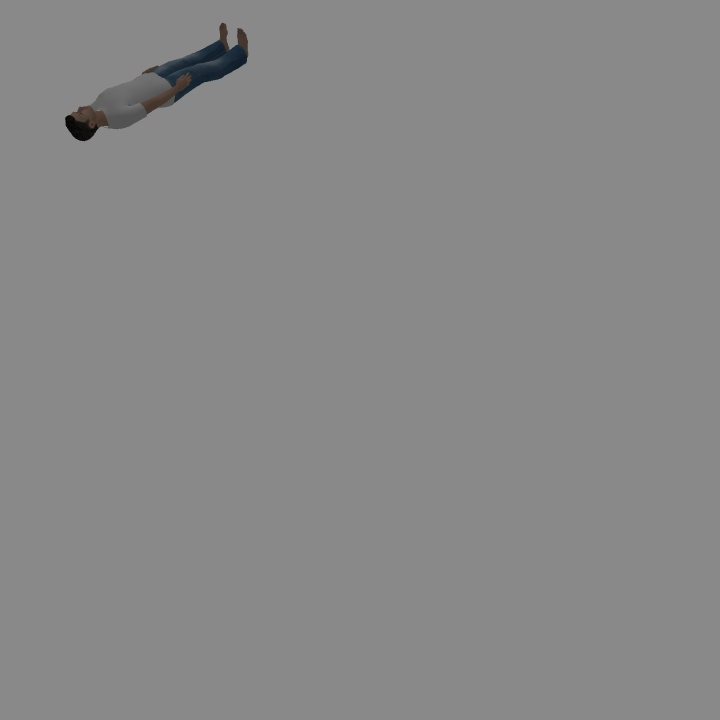victim: (70, 24, 247, 138)
